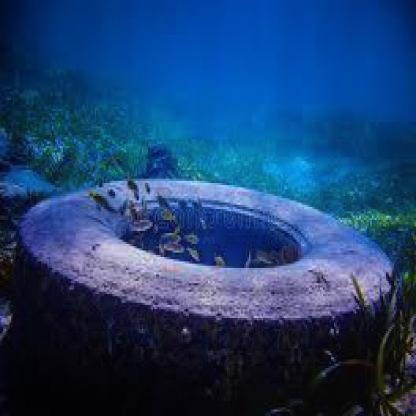tire: (33, 163, 416, 401)
